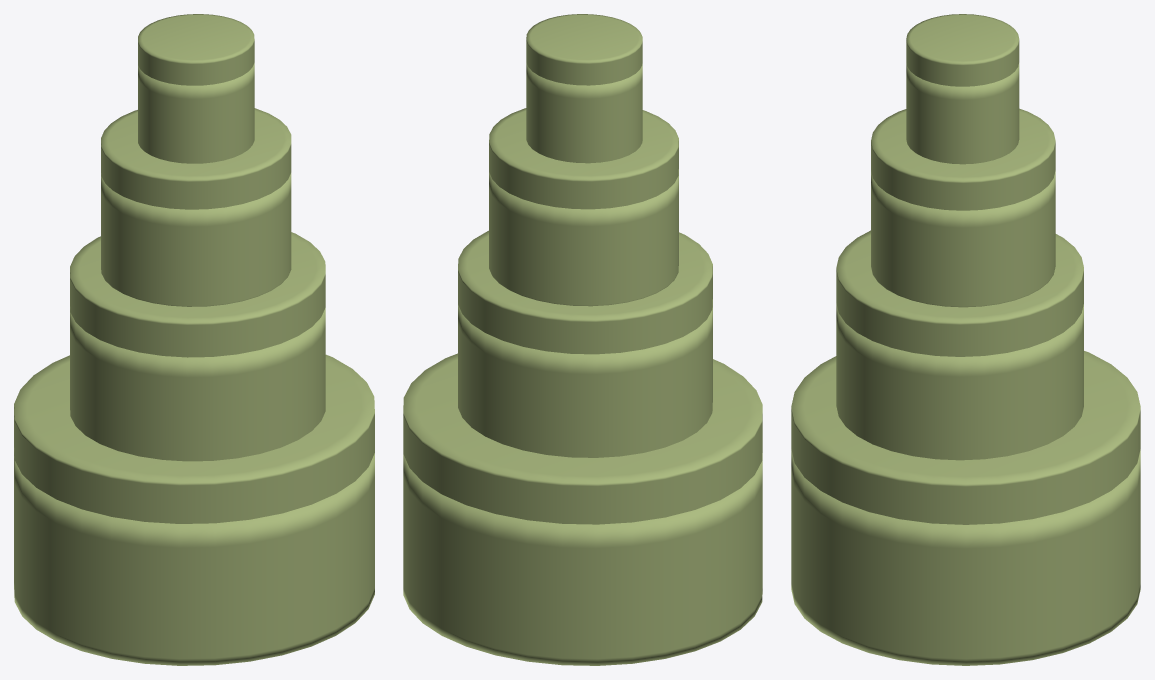
The model's file is 4-tier-pistage-none-none.glb.
3 renders of one model, left to right at view 1: azimuth 30°, elevation 25°; view 2: azimuth 150°, elevation 25°; view 3: azimuth 270°, elevation 25°, orthographic.
Visible parts, largest first — view 1: 3.001, 3, 2, 1; view 2: 3.001, 3, 2, 1; view 3: 3.001, 3, 2, 1.
Part boxes in pixels (x1,y1,x2,y2): 3.001: (14,354,374,665); 3: (70,232,325,461); 2: (101,108,291,306); 1: (138,14,254,163); 3.001: (403,353,762,665); 3: (458,230,712,457); 2: (489,108,678,306); 1: (526,14,642,163); 3.001: (791,351,1140,665); 3: (836,230,1083,460); 2: (871,108,1055,307); 1: (906,14,1019,164).
Bounding box in the file's own units: 4.43 × 7.43 × 4.27.
